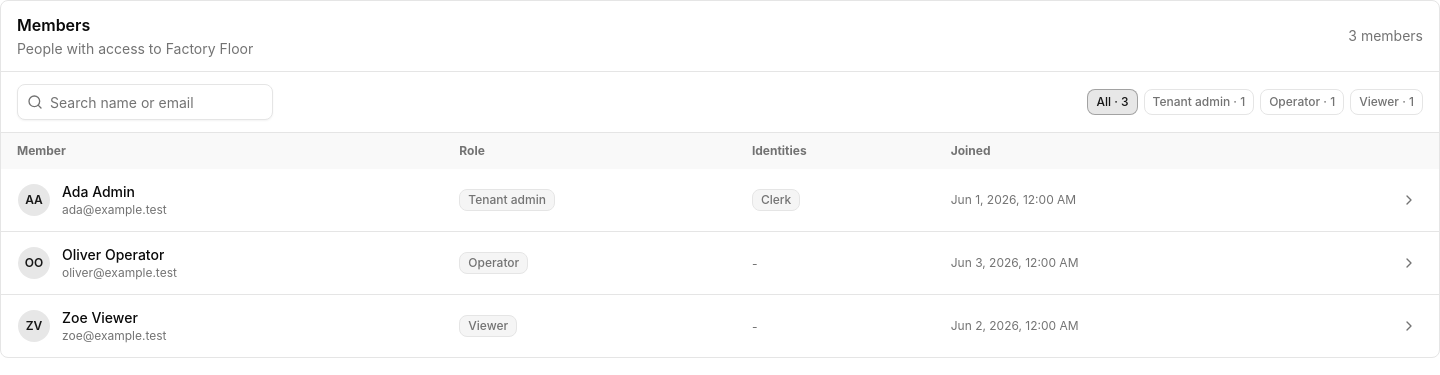
Scenario: MembersSection › shows an empty result state when nothing matches
Type "nobody" into the search field named "Search members".
click(145, 102); type("nobody")  # box [17, 84, 273, 120]
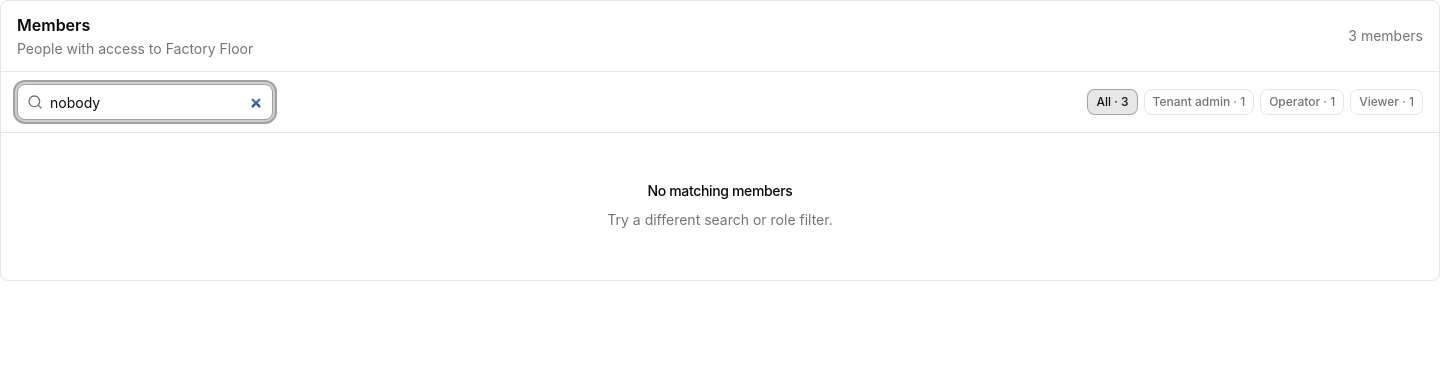
Check: the text "No matching members" is shown, box [648, 181, 792, 201]
